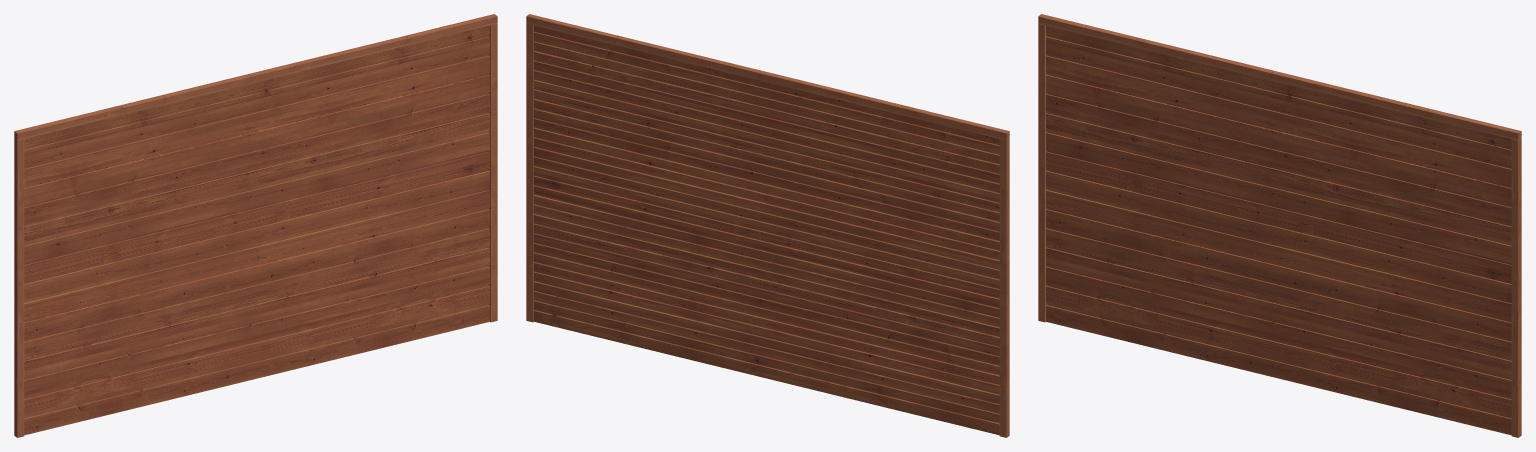
File: 13ftx7.875ft.obj
3 renders of one model, left to right at view 1: azimuth 30°, elevation 25°; view 2: azimuth 150°, elevation 25°; view 3: azimuth 330°, elevation 25°, orthographic.
Parts seen in each view (by area): view 1: wall_planks, trim_top, trim_left, trim_right; view 2: wall_planks, trim_top, trim_left, trim_right; view 3: wall_planks, trim_top, trim_right, trim_left.
Boxes of the visible parts, <box> form: wall_planks: <box>24,25,489,435</box>; trim_top: <box>14,14,497,140</box>; trim_left: <box>14,139,24,437</box>; trim_right: <box>489,23,497,322</box>; wall_planks: <box>534,25,999,435</box>; trim_top: <box>526,14,1009,140</box>; trim_left: <box>999,139,1009,437</box>; trim_right: <box>526,23,534,322</box>; wall_planks: <box>1046,25,1511,435</box>; trim_top: <box>1038,14,1521,140</box>; trim_right: <box>1511,139,1521,437</box>; trim_left: <box>1038,23,1046,322</box>.
Bounding box in the file's own units: 156 × 94.5 × 1.82.
